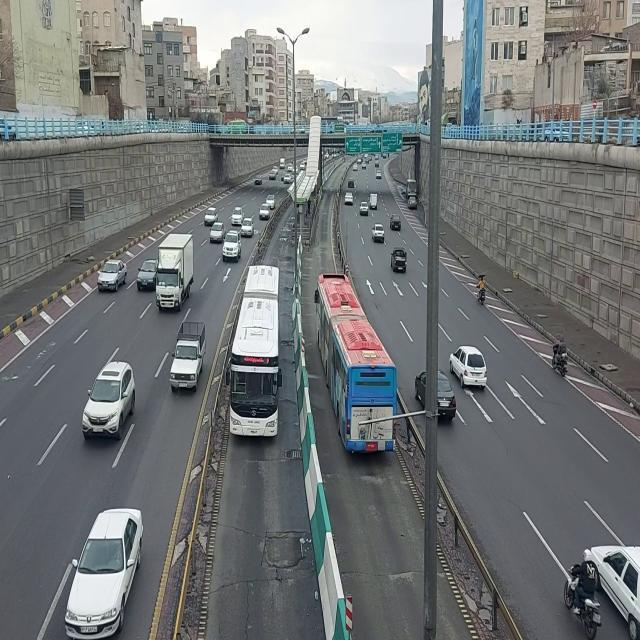Bus: (312, 265, 398, 459), (224, 263, 284, 445)
Car: (62, 503, 147, 640), (81, 358, 137, 449), (449, 340, 490, 392), (97, 253, 129, 299), (137, 255, 161, 295), (221, 229, 242, 265), (210, 222, 226, 246), (204, 206, 218, 227), (372, 223, 386, 243), (241, 217, 255, 237), (231, 206, 245, 226), (389, 213, 401, 231), (259, 204, 271, 222), (359, 201, 369, 217), (344, 191, 354, 207), (266, 193, 276, 209), (407, 196, 418, 210), (254, 173, 264, 187), (348, 177, 356, 189), (283, 172, 291, 184), (268, 170, 276, 181), (376, 170, 382, 180), (353, 164, 359, 173), (299, 161, 305, 170), (362, 162, 368, 170)
Pickup: (169, 314, 208, 401), (391, 246, 409, 274), (369, 193, 378, 211), (279, 158, 286, 171)
Truck: (157, 223, 197, 318)
